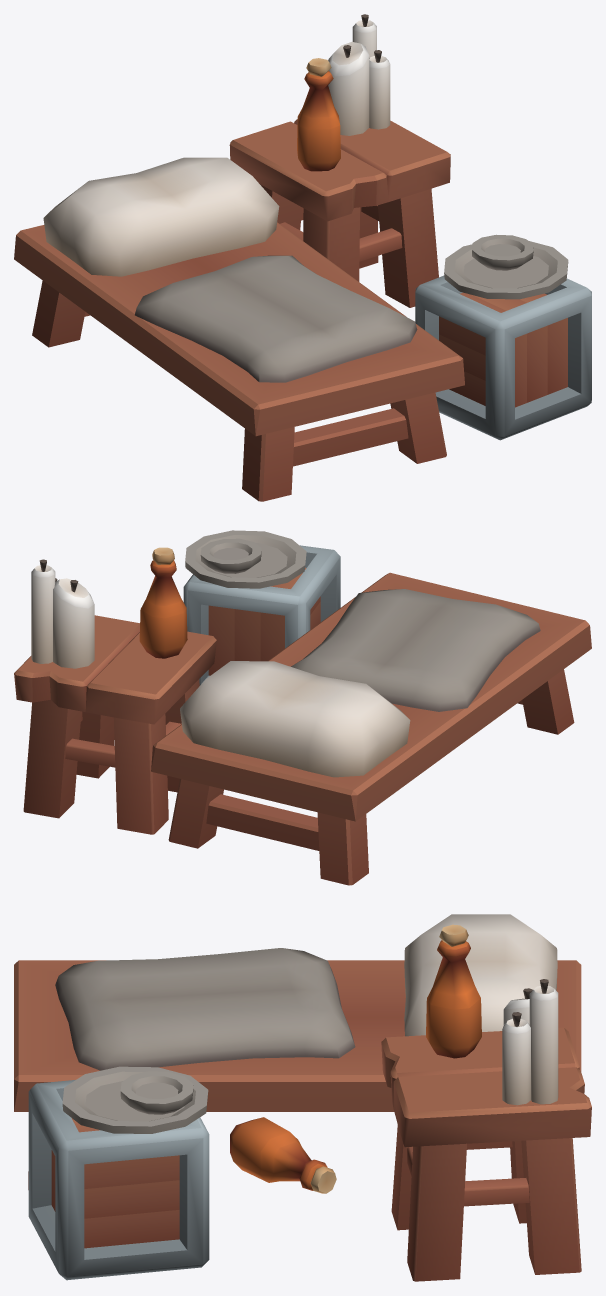
File: bed_decorated.gltf
3 renders of one model, top to bottom at view 1: azimuth 30°, elevation 25°; view 2: azimuth 150°, elevation 25°; view 3: azimuth 270°, elevation 25°, orthographic. The views are drawn at different scales.
Parts seen in each view (by area): view 1: bed_decorated; view 2: bed_decorated; view 3: bed_decorated.
Part boxes in pixels (box(x1,y1,x2,y2)): bed_decorated: box(14, 14, 591, 501); bed_decorated: box(14, 530, 591, 885); bed_decorated: box(14, 914, 591, 1281).
Bounding box in the file's own units: 2.61 × 1.7 × 3.06.
1 material, 1 textured.
